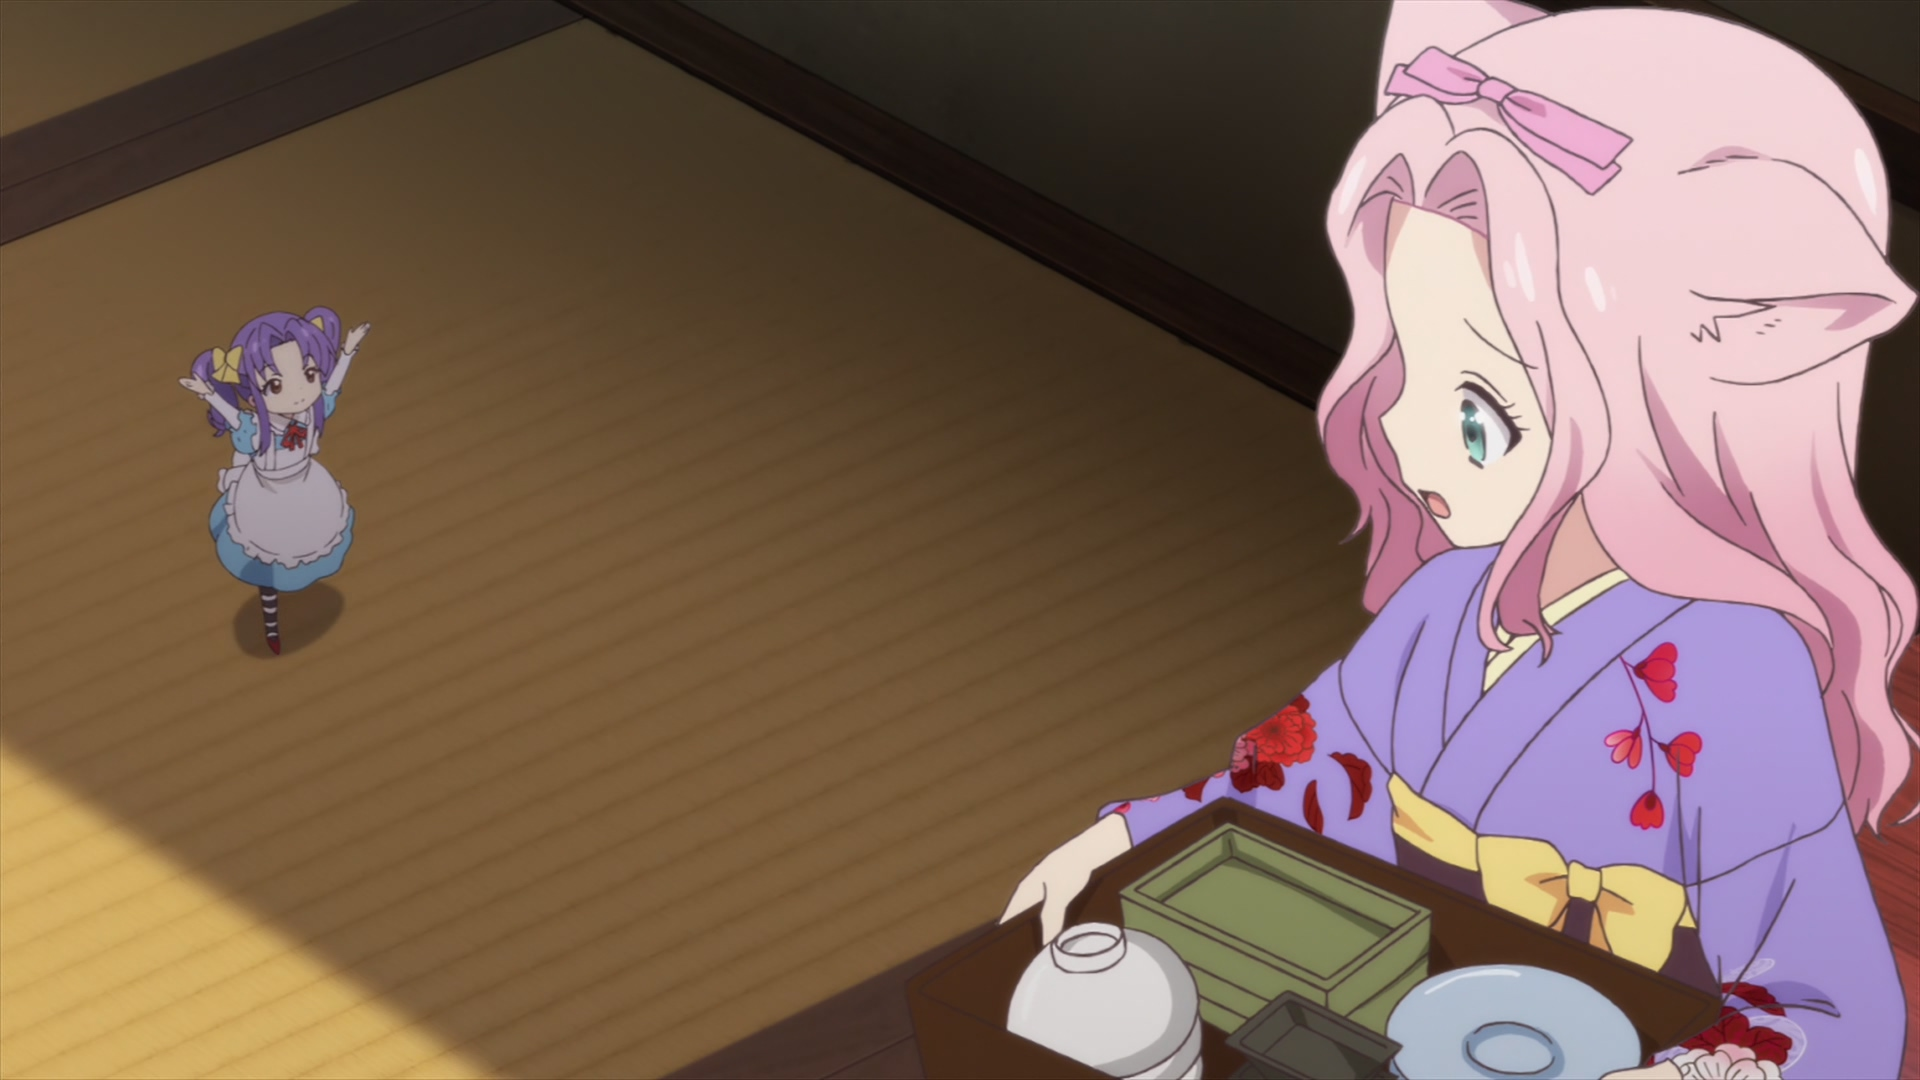莲: (907, 1, 1920, 1080)
阿菊: (179, 306, 371, 657)
